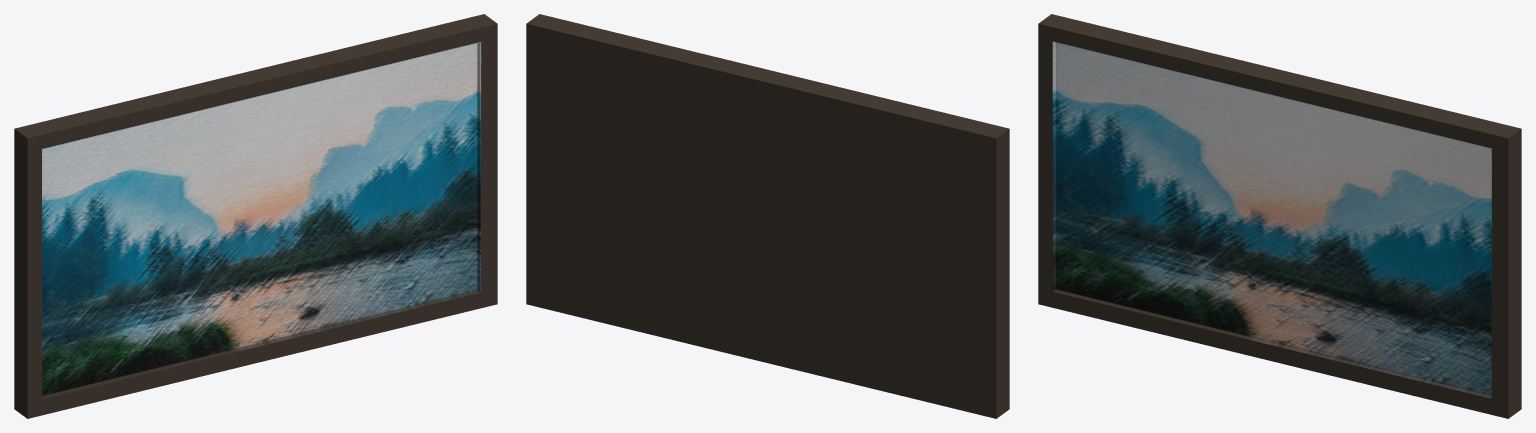
The model's file is lukisan lantai 1.fbx.
3 renders of one model, left to right at view 1: azimuth 30°, elevation 25°; view 2: azimuth 150°, elevation 25°; view 3: azimuth 330°, elevation 25°, orthographic.
Parts seen in each view (by area): view 1: Cube; view 2: Cube; view 3: Cube.
Part boxes in pixels (x1,y1,x2,y2): Cube: (14,14,497,418); Cube: (526,14,1009,418); Cube: (1038,14,1521,418).
Size of the model in its own units: 436 by 249 by 21.32.
1 material, 1 textured.
